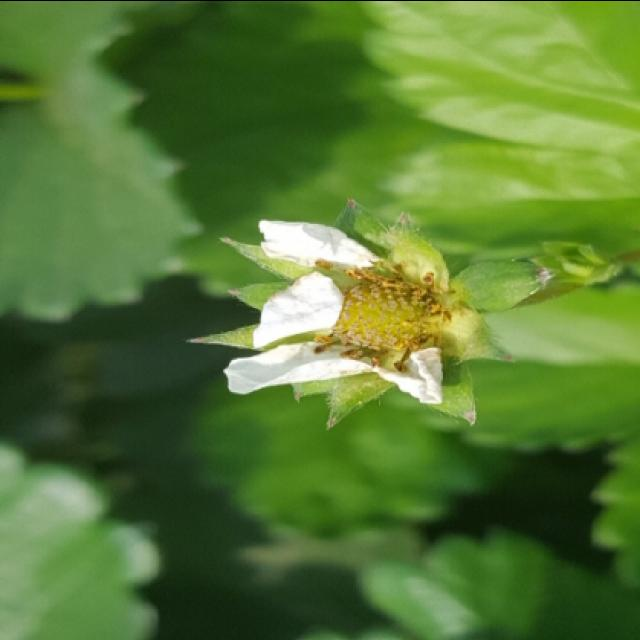Blossom Blight: (310, 255, 456, 376)
